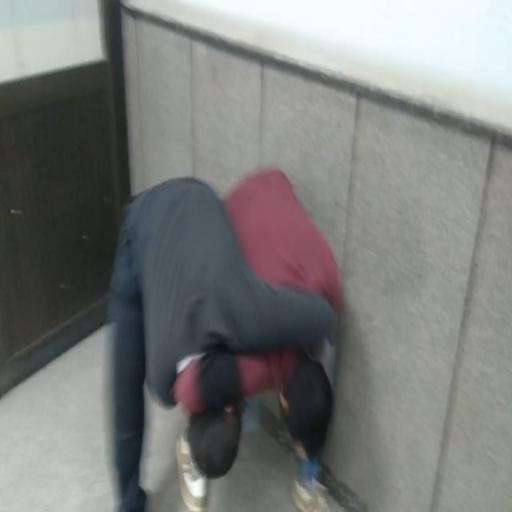violencia: (86, 147, 352, 512)
